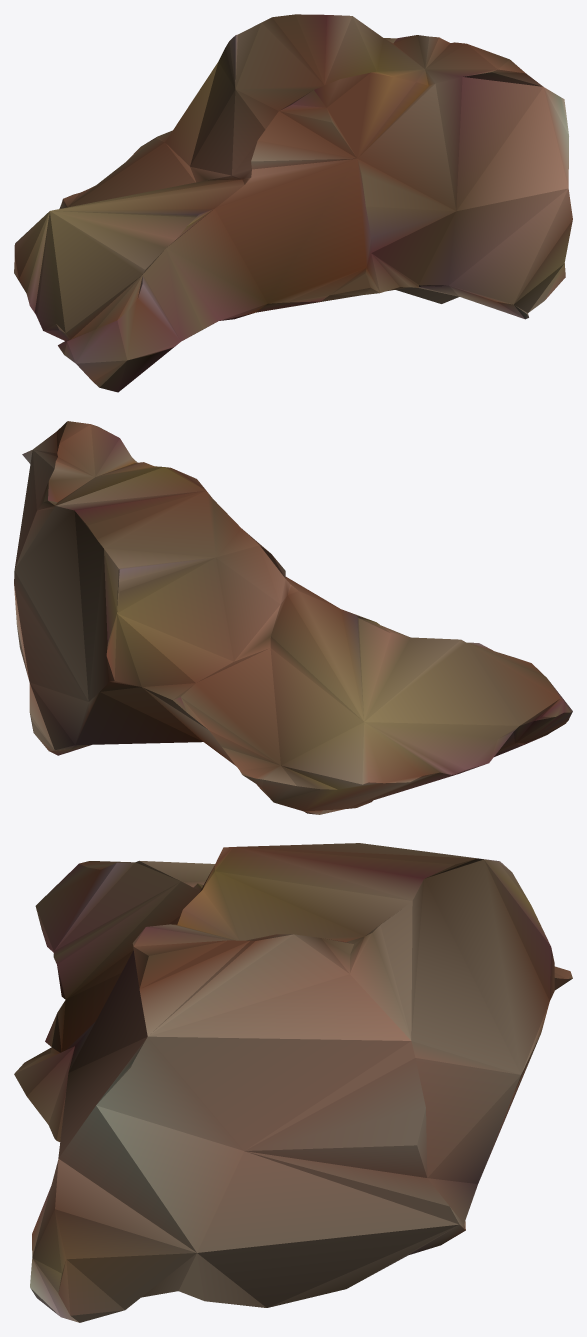
File: stone_01.glb
The picture shows the model from 3 angles, top to bottom: view 1: azimuth 30°, elevation 25°; view 2: azimuth 150°, elevation 25°; view 3: azimuth 270°, elevation 25°; orthographic projection. The views are drawn at different scales.
Parts seen in each view (by area): view 1: stone_01; view 2: stone_01; view 3: stone_01.
Boxes of the visible parts, bbox=[...] form: stone_01: bbox=[14, 14, 572, 392]; stone_01: bbox=[14, 421, 572, 814]; stone_01: bbox=[14, 843, 572, 1322].
Size of the model in its own units: 0.45 by 0.2143 by 0.274.
